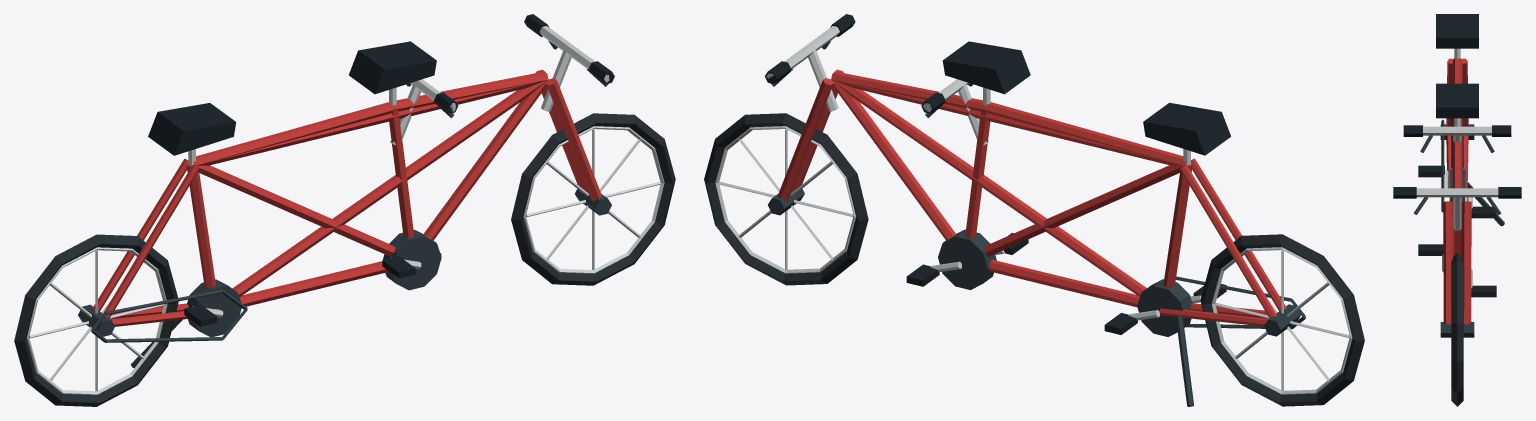
The model's file is b03_two_rider_tandem_bicycle.glb.
3 renders of one model, left to right at view 1: azimuth 30°, elevation 25°; view 2: azimuth 150°, elevation 25°; view 3: azimuth 270°, elevation 25°, orthographic. The views are drawn at different scales.
Parts seen in each view (by area): view 1: b03_two_rider_tandem_bicycle; view 2: b03_two_rider_tandem_bicycle; view 3: b03_two_rider_tandem_bicycle.
Boxes of the visible parts, box(x1,y1,x2,y2) form: b03_two_rider_tandem_bicycle: box(14, 14, 675, 406); b03_two_rider_tandem_bicycle: box(704, 14, 1364, 406); b03_two_rider_tandem_bicycle: box(1393, 14, 1521, 406).
Size of the model in its own units: 2.77 by 1.12 by 0.57.
